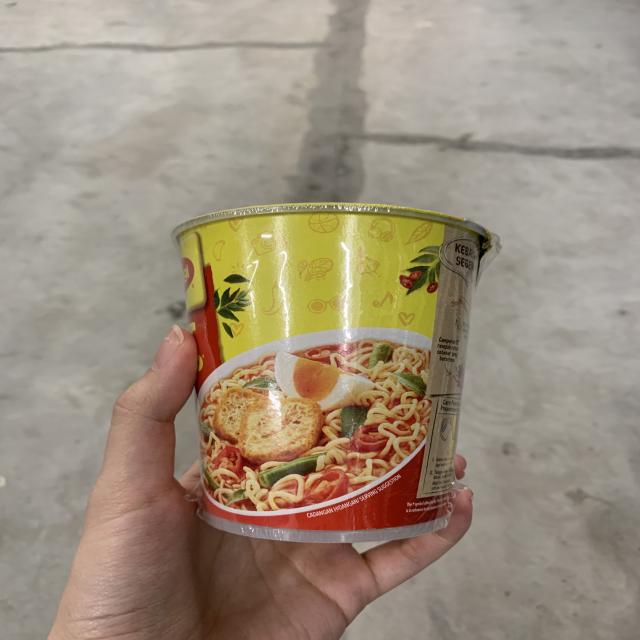object_name: (183, 216, 470, 538)
